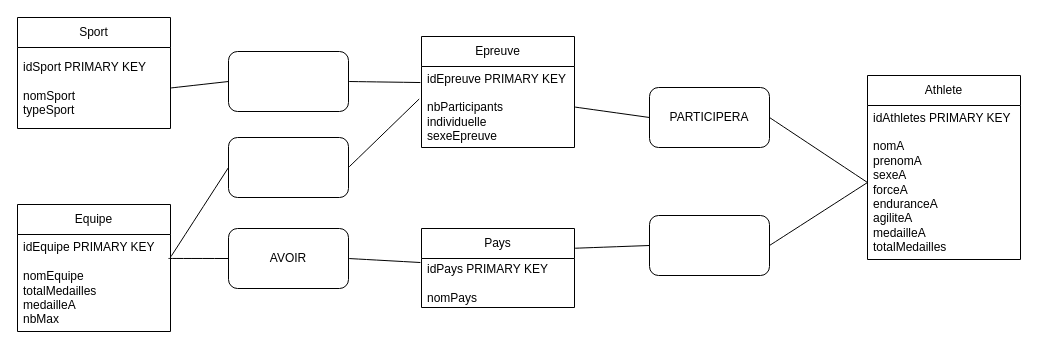
The diagram is 1038 pixels wide and 349 high, and some of its shapes have lost their labels. The shapes that lost their labels are listed below. From the top down, each one's box as (x1, y1, x2, y2) in pixels, then its label:
(228, 50, 348, 112): CONTENIRA
(228, 136, 348, 198): PARTICIPERB
(648, 214, 770, 276): CONTENIRB
